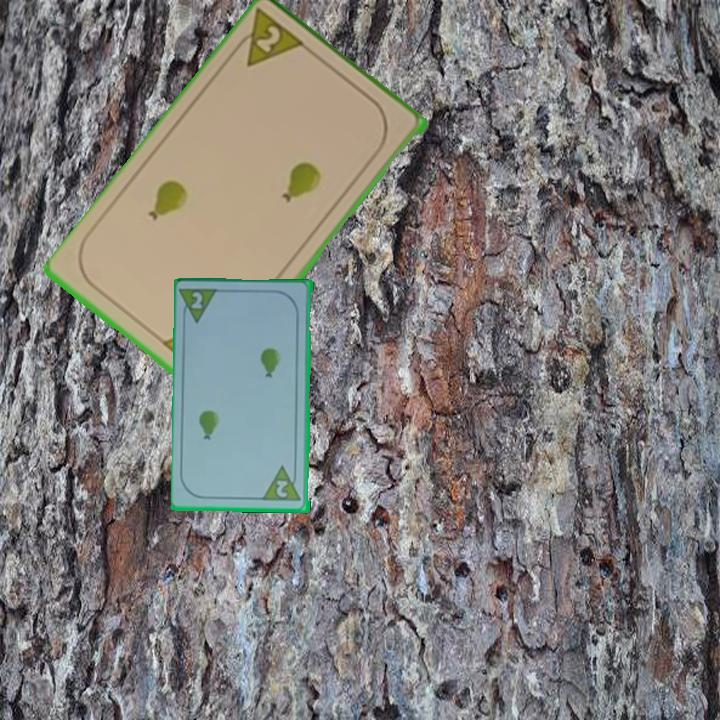2p: (227, 6, 310, 71), (178, 285, 223, 327), (273, 477, 292, 501)
